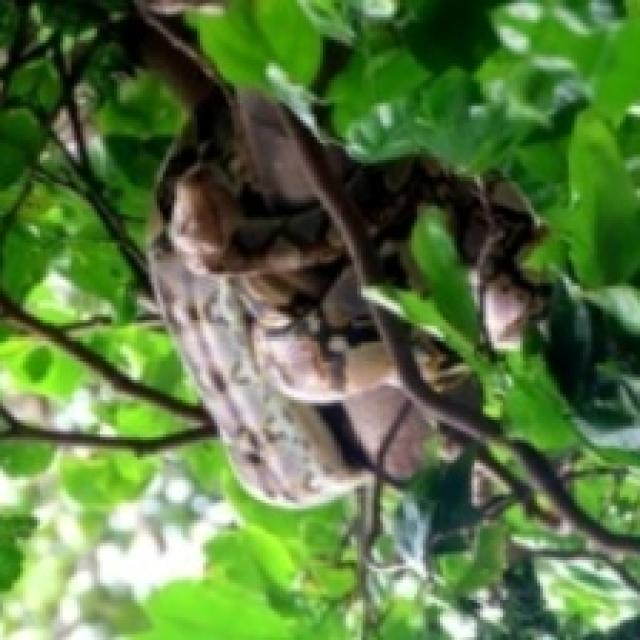reticulated python: (140, 17, 543, 503)
